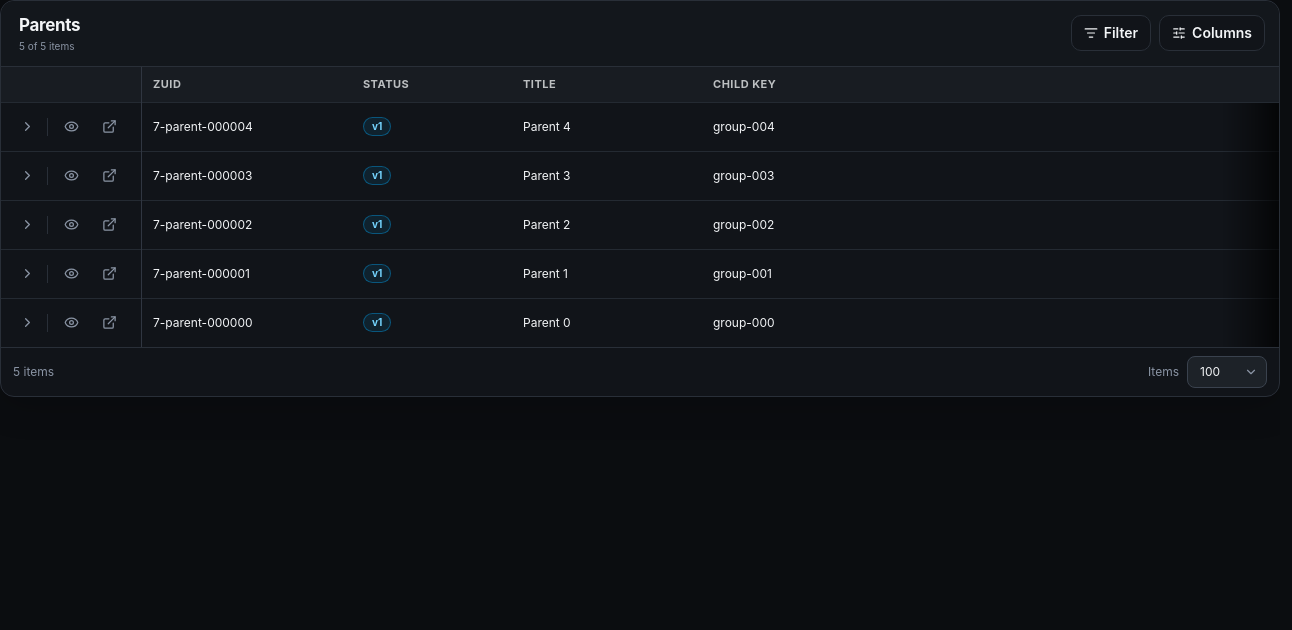
recursive collection tables › shows publication status in root and expanded nested tables
Expected: the column heading "Status" is shown, x1=351 y1=67 x2=511 y2=103
Expected: the picture named "Latest saved version" is shown, x1=363 y1=117 x2=391 y2=136
Click the button named "Expand relationships for 7-parent-000000" at {"x": 27, "y": 323}, box x1=11 y1=307 x2=43 y2=339
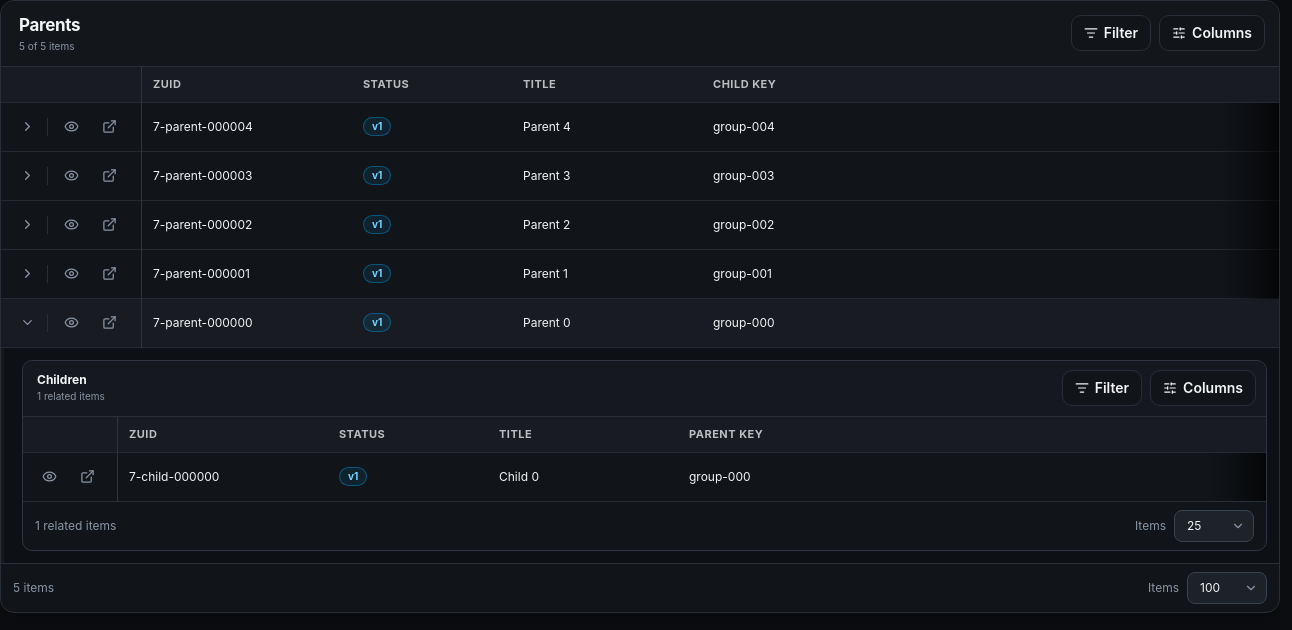
Now the column heading "Status" below "Children" is shown, box x1=327 y1=417 x2=487 y2=453
Now the picture named "Latest saved version" is shown, box x1=339 y1=467 x2=367 y2=486
